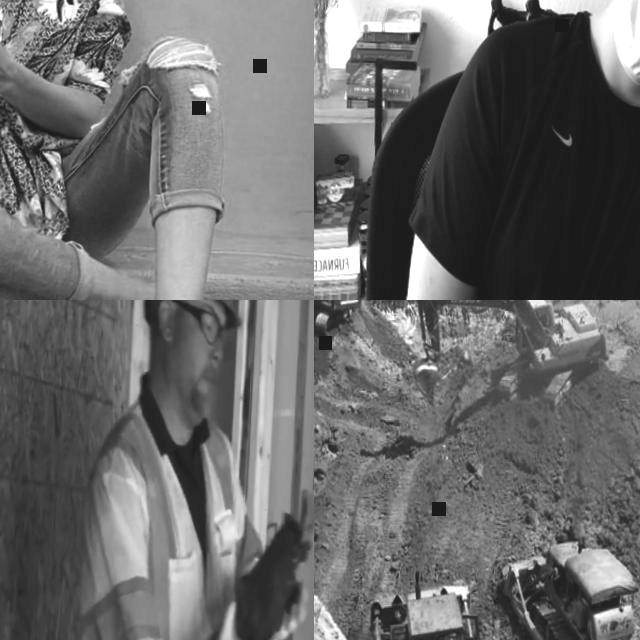helmet: (133, 300, 248, 330)
machinery: (412, 300, 609, 411), (501, 528, 640, 640), (370, 567, 491, 640)
no_mask: (163, 334, 220, 424)
no_vest: (473, 25, 640, 300), (0, 0, 98, 153)
person: (0, 0, 312, 300), (74, 300, 314, 640), (403, 0, 640, 300)
vest: (75, 394, 273, 640)
